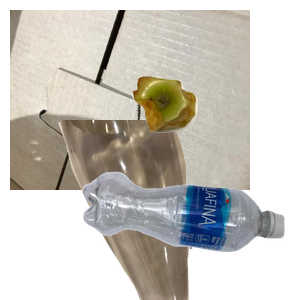cardboard: (10, 10, 250, 190)
glass: (56, 120, 241, 300)
plastic: (80, 169, 300, 300)
trash: (130, 74, 300, 199)
